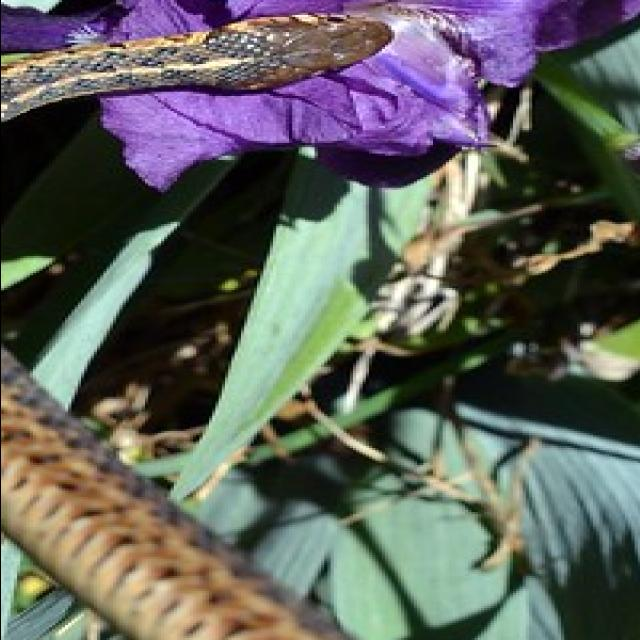Snake: (0, 11, 541, 640)
